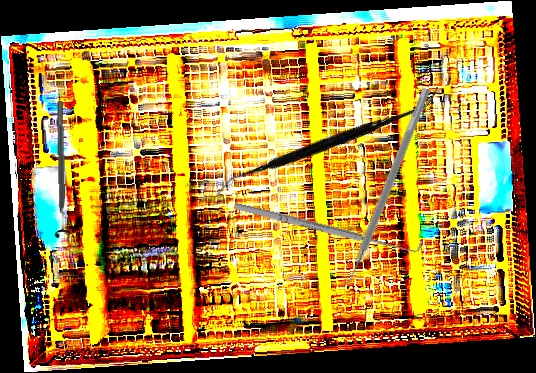Fixation Ring: (49, 100, 76, 239)
Hook Surgical: (232, 194, 424, 258)
Spatula Surgical: (213, 17, 441, 266), (336, 83, 431, 292)
